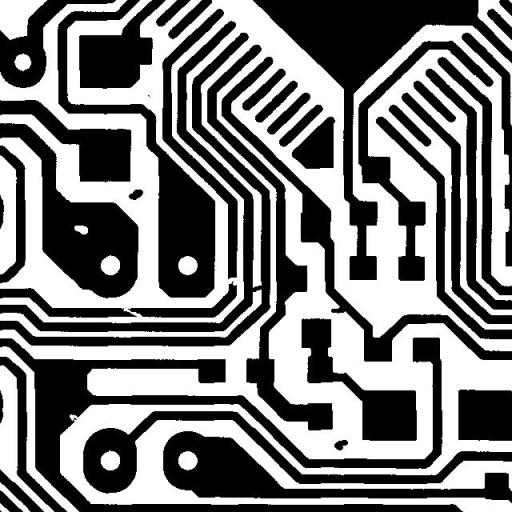copper: (326, 432, 356, 458), (121, 182, 150, 207)
mousebite: (62, 406, 86, 429)
open: (113, 298, 150, 326), (220, 270, 246, 292)
pin-hole: (66, 218, 96, 242)
short: (241, 278, 270, 299)
spur: (323, 298, 355, 320)
